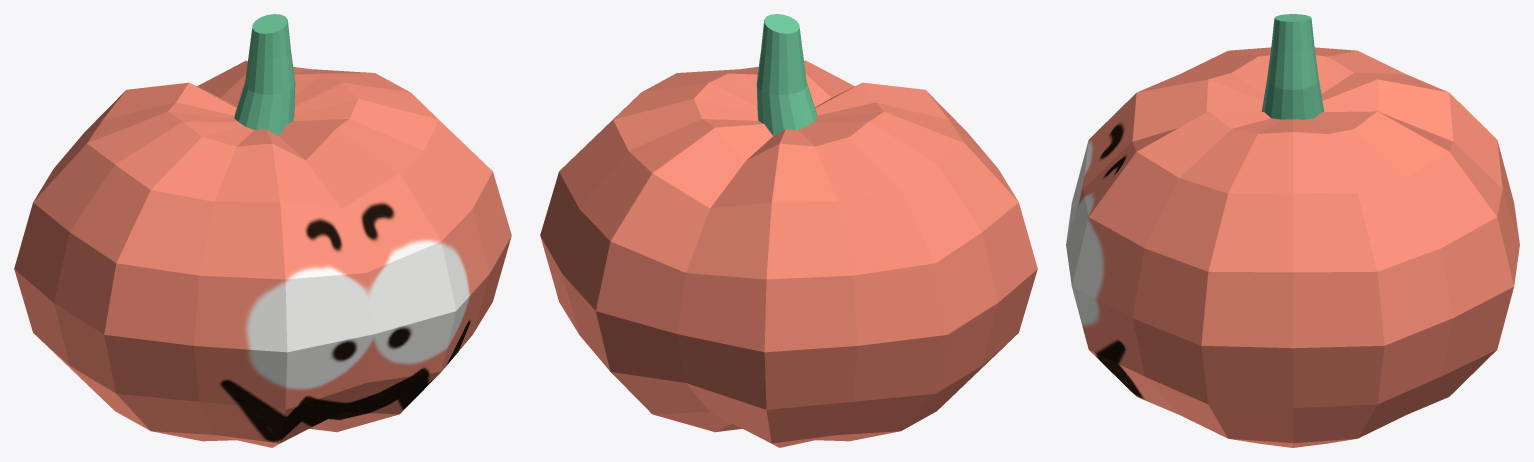
Rendered from PumpkinmanHeadUI.fbx.
3 renders of one model, left to right at view 1: azimuth 30°, elevation 25°; view 2: azimuth 150°, elevation 25°; view 3: azimuth 270°, elevation 25°, orthographic.
Visible parts, largest first — view 1: PumpkinmanHead; view 2: PumpkinmanHead; view 3: PumpkinmanHead.
Part boxes in pixels (bbox=[...]): PumpkinmanHead: bbox=[14, 14, 511, 447]; PumpkinmanHead: bbox=[540, 14, 1037, 447]; PumpkinmanHead: bbox=[1066, 14, 1519, 447].
Bounding box in the file's own units: 86.53 × 79.28 × 80.01.
